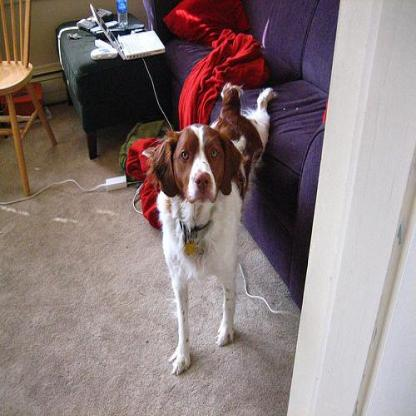Brittany_spaniel: (141, 78, 278, 378)
